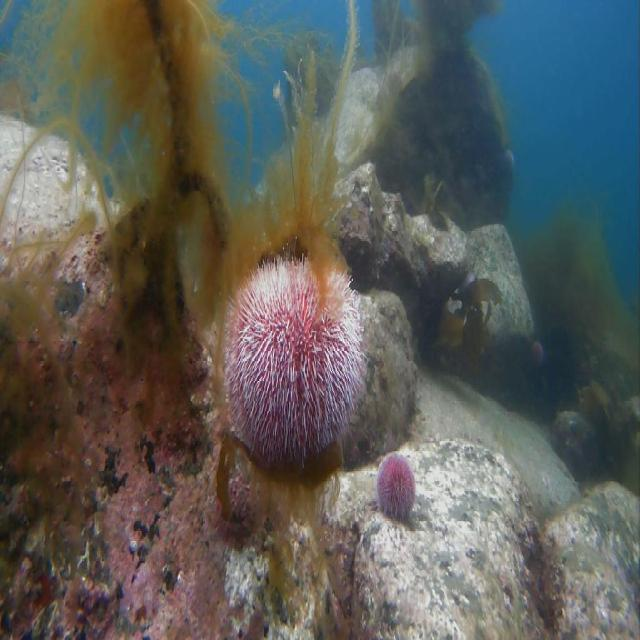Deniz Kestanesi: (220, 237, 368, 470), (376, 454, 415, 522), (531, 340, 543, 368), (506, 148, 514, 166)
